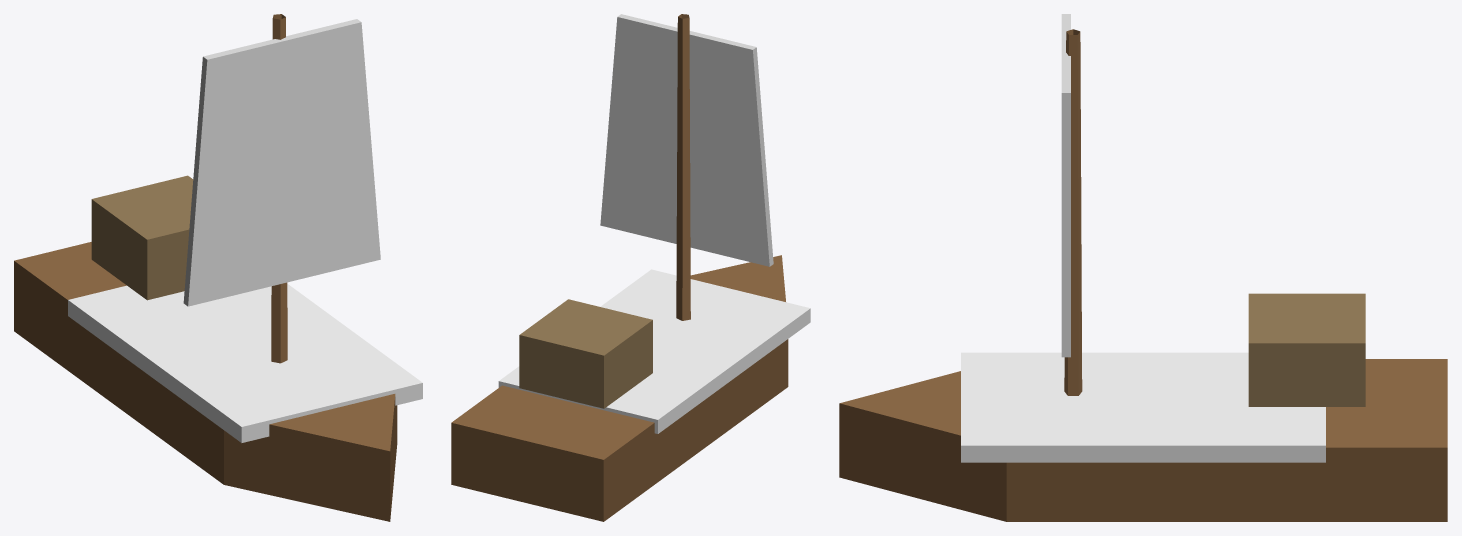
Rendered from Embarked.glb.
3 views of the same model, side by side, from view 1: azimuth 30°, elevation 25°; view 2: azimuth 150°, elevation 25°; view 3: azimuth 270°, elevation 25° (orthographic). The views are drawn at different scales.
Parts seen in each view (by area): view 1: Units_Embarked; view 2: Units_Embarked; view 3: Units_Embarked.
Part boxes in pixels (left/top/right/bottom): Units_Embarked: left=14, top=14, right=422, bottom=521; Units_Embarked: left=451, top=14, right=810, bottom=521; Units_Embarked: left=839, top=14, right=1447, bottom=521.
Size of the model in its own units: 0.1 by 0.21 by 0.26.
